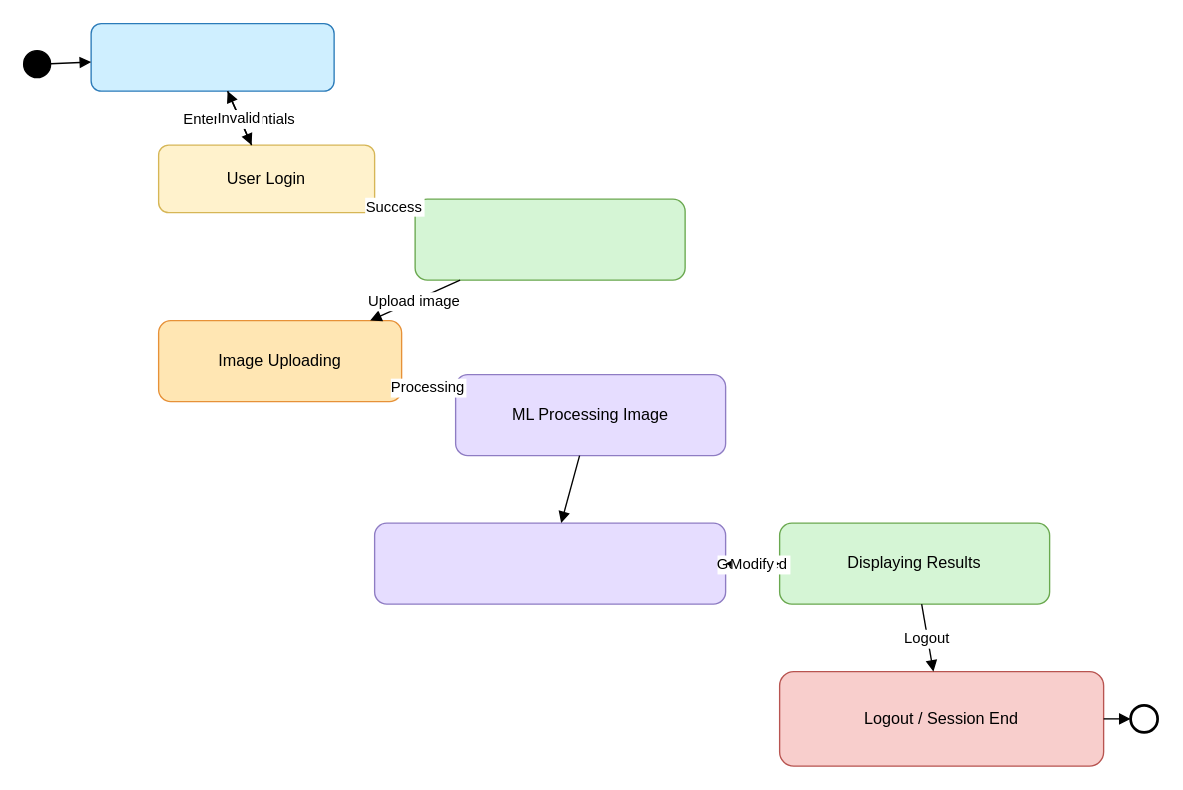
The diagram is 1183 pixels wide and 790 high, and some of its shapes have lost their labels. Each missing label, with the centre of its shape:
"Generating Recommendations" goes at [549,563].
"Idle / Logged Out" goes at [212,56].
"Logged In / Ready" goes at [549,239].
